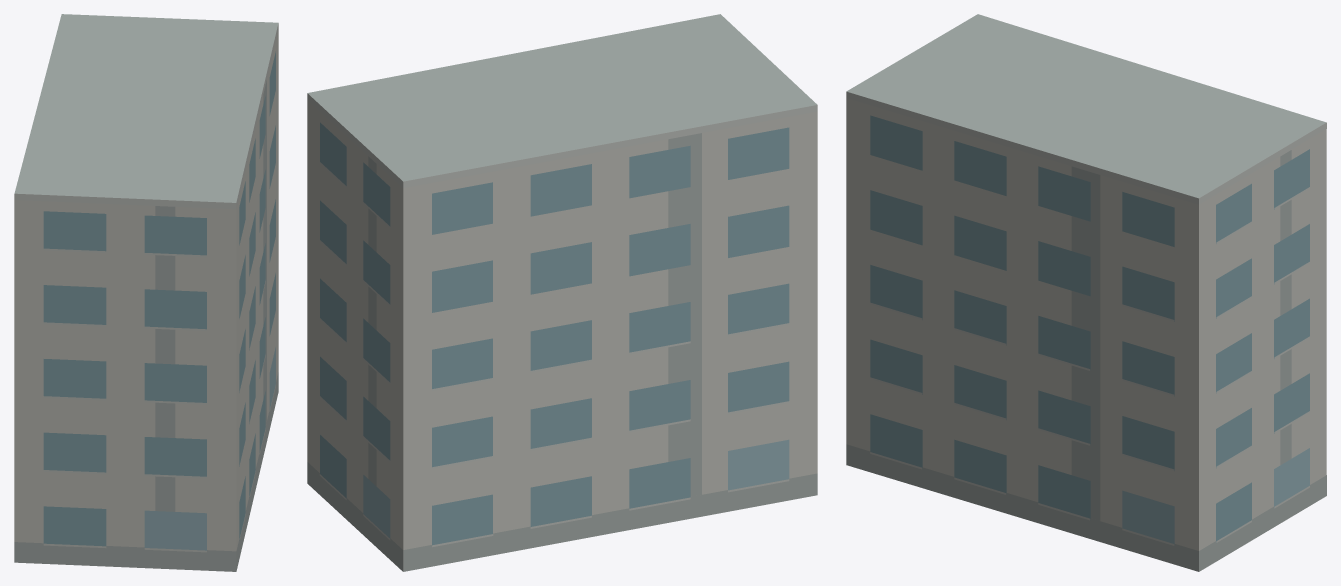
The model's file is survey-upis-32842781.glb.
3 renders of one model, left to right at view 1: azimuth 30°, elevation 25°; view 2: azimuth 150°, elevation 25°; view 3: azimuth 270°, elevation 25°, orthographic. The views are drawn at different scales.
Visible parts, largest first — view 1: survey-upis-32842781.tmp; view 2: survey-upis-32842781.tmp; view 3: survey-upis-32842781.tmp.
Boxes of the visible parts, x1,y1,x2,y2 form: survey-upis-32842781.tmp: [14, 14, 278, 571]; survey-upis-32842781.tmp: [307, 14, 817, 571]; survey-upis-32842781.tmp: [846, 14, 1326, 571].
Size of the model in its own units: 14.94 by 14.1 by 16.45.
